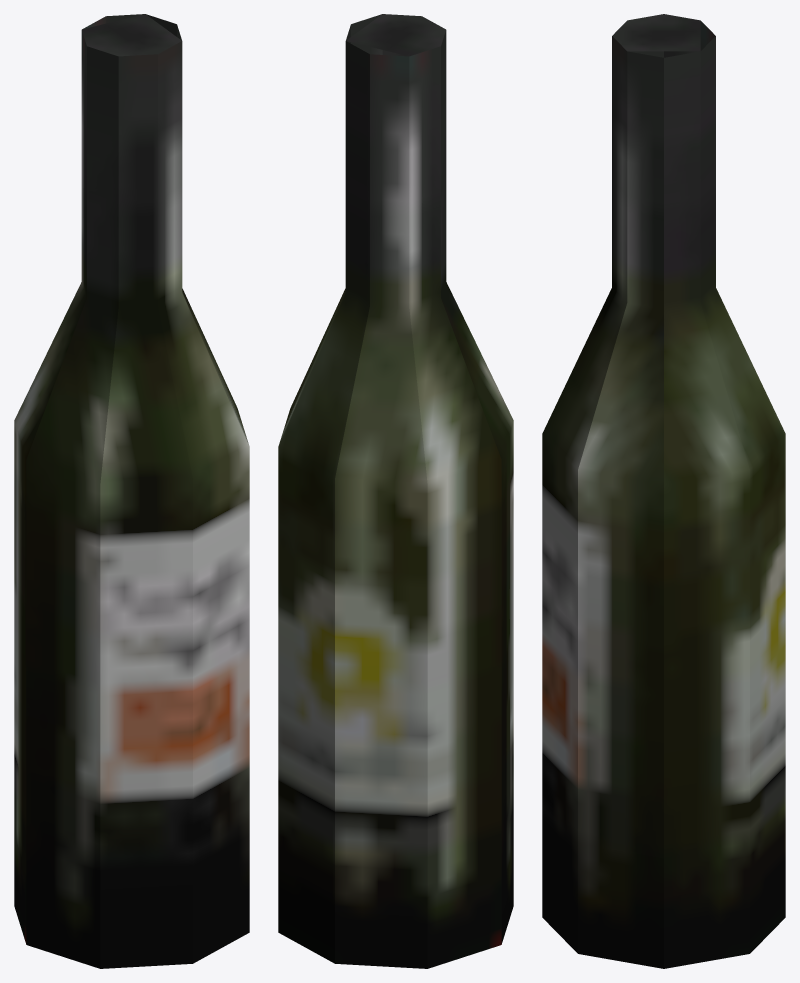
The model's file is booze8.fbx.
3 views of the same model, side by side, from view 1: azimuth 30°, elevation 25°; view 2: azimuth 150°, elevation 25°; view 3: azimuth 270°, elevation 25° (orthographic).
Parts seen in each view (by area): view 1: mesh_0; view 2: mesh_0; view 3: mesh_0.
Boxes of the visible parts, x1=… form: mesh_0: x1=14, y1=14, x2=249, y2=968; mesh_0: x1=278, y1=14, x2=513, y2=968; mesh_0: x1=542, y1=14, x2=785, y2=968.
Size of the model in its own units: 9.75 by 38.98 by 9.75.
1 material, 1 textured.
